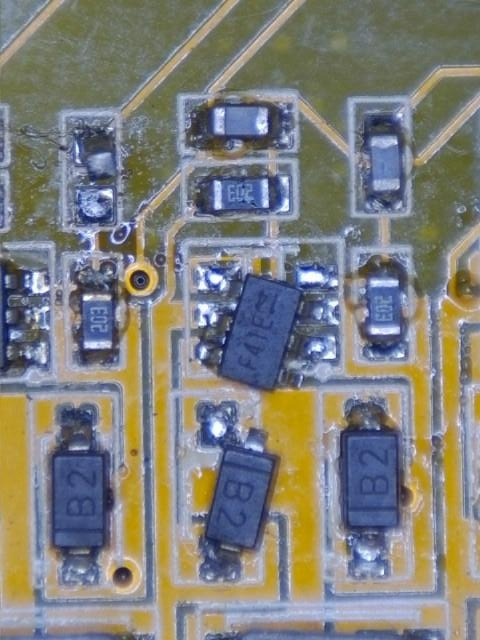pcb_defect: (194, 264, 340, 392), (198, 403, 281, 582), (74, 128, 117, 225)
